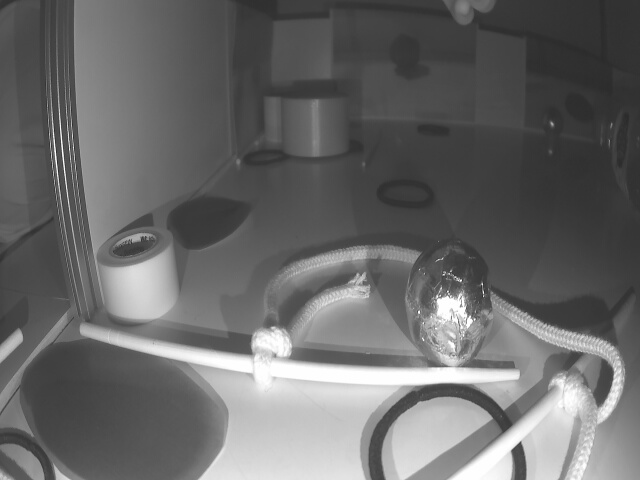Live: (407, 236, 496, 367), (544, 107, 564, 140)
